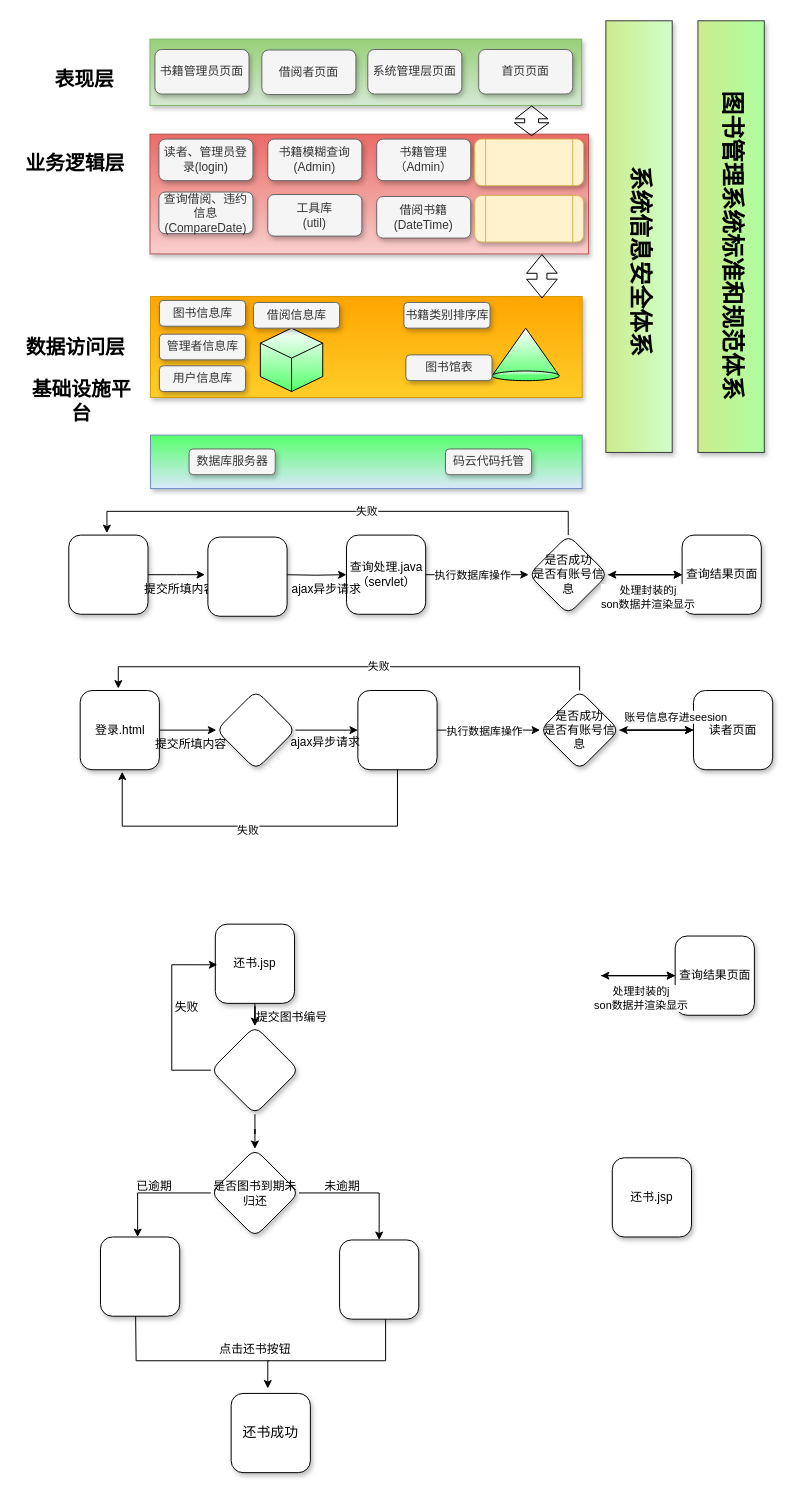
Image size: 796x1497. Some labels were removed from this diagram. The centre of each missing label's shape, as x and y in pixels:
"Request/Response" belongs at (530,220).
"session/cookie 验证权限信息" belongs at (530,163).
"业务数据" belongs at (525,354).
"基础数据" belongs at (291,359).
"录入项检验 （空-填入默认内容）" belongs at (248,577).
"录入项检验 （非空）" belongs at (256,731).
"是否图书已借出或存在" belongs at (255,1071).
"显示图书编号截止日期和归还日期" belongs at (380,1280).
"显示逾期信息所要交的罚款" belongs at (141,1277).
"查询.jsp" belongs at (109,575).
"登录处理.java （servlet）" belongs at (398,731).
